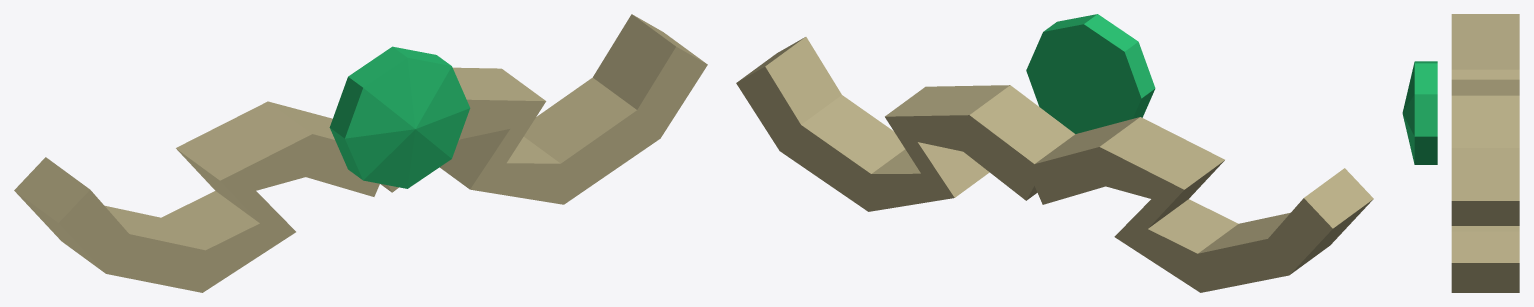
File: cloud_crown.obj
3 renders of one model, left to right at view 1: azimuth 30°, elevation 25°; view 2: azimuth 150°, elevation 25°; view 3: azimuth 270°, elevation 25°, orthographic. The views are drawn at different scales.
Parts seen in each view (by area): view 1: mirror_cloud_crown_left, mirror_cloud_crown_left_edge, cloud_crown_gem, mirror_cloud_crown_right_edge, mirror_cloud_crown_right; view 2: mirror_cloud_crown_right_edge, mirror_cloud_crown_left, mirror_cloud_crown_right, mirror_cloud_crown_left_edge, cloud_crown_gem; view 3: mirror_cloud_crown_right_edge, mirror_cloud_crown_left_edge, cloud_crown_gem.
Boxes of the visible parts, x1,y1,x2,y2 form: mirror_cloud_crown_left: [59, 134, 379, 292]; mirror_cloud_crown_left_edge: [14, 101, 334, 273]; cloud_crown_gem: [329, 46, 470, 188]; mirror_cloud_crown_right_edge: [380, 14, 706, 192]; mirror_cloud_crown_right: [388, 46, 707, 204]; mirror_cloud_crown_right_edge: [737, 37, 1074, 200]; mirror_cloud_crown_left: [1026, 147, 1332, 292]; mirror_cloud_crown_right: [736, 67, 1035, 211]; mirror_cloud_crown_left_edge: [1035, 117, 1373, 274]; cloud_crown_gem: [1026, 14, 1155, 133]; mirror_cloud_crown_right_edge: [1451, 148, 1519, 292]; mirror_cloud_crown_left_edge: [1451, 14, 1519, 147]; cloud_crown_gem: [1402, 61, 1437, 164].
Size of the model in its own units: 0.6728 by 0.2069 by 0.1379.
